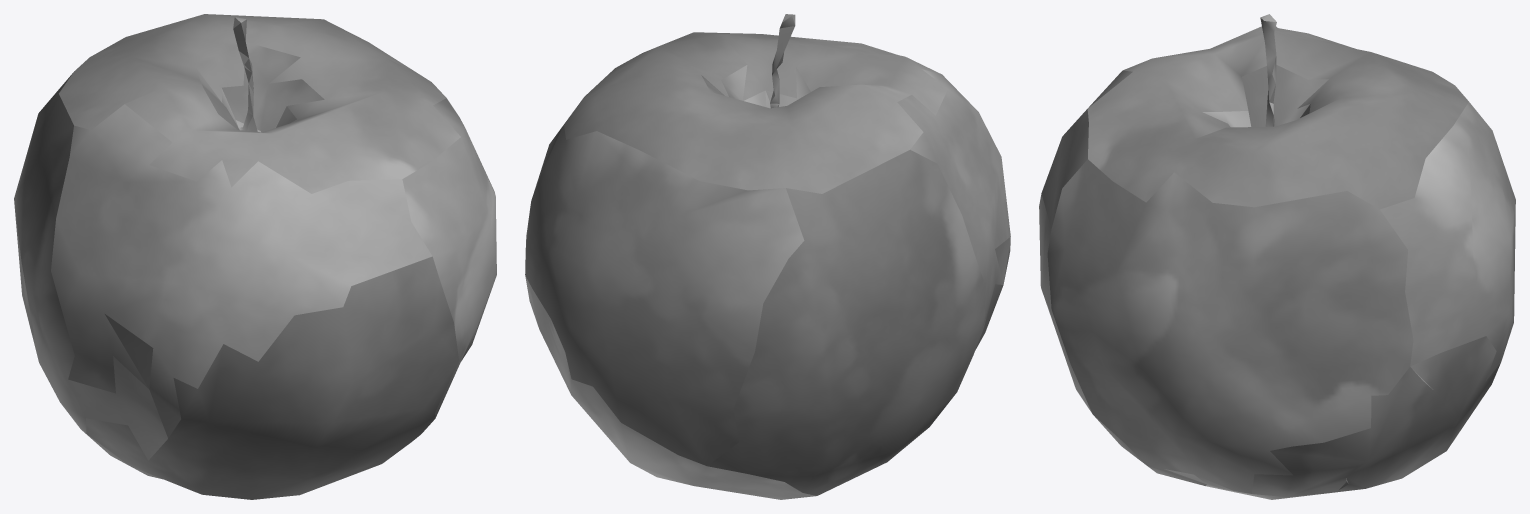
The model's file is SM_Apple_02e.fbx.
3 renders of one model, left to right at view 1: azimuth 30°, elevation 25°; view 2: azimuth 150°, elevation 25°; view 3: azimuth 270°, elevation 25°, orthographic. The views are drawn at different scales.
Visible parts, largest first — view 1: SM_Apple_02e_LOD0; view 2: SM_Apple_02e_LOD0; view 3: SM_Apple_02e_LOD0.
Part boxes in pixels (x1,y1,x2,y2): SM_Apple_02e_LOD0: (14, 14, 496, 499); SM_Apple_02e_LOD0: (525, 14, 1010, 499); SM_Apple_02e_LOD0: (1039, 14, 1515, 499).
Size of the model in its own units: 10.38 by 10.5 by 10.85.
